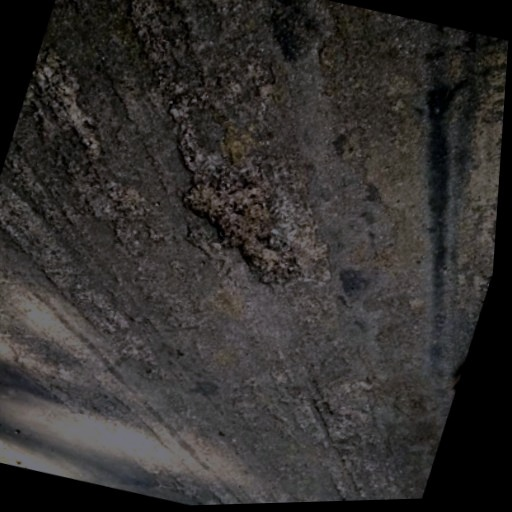pothole: (160, 165, 309, 283)
